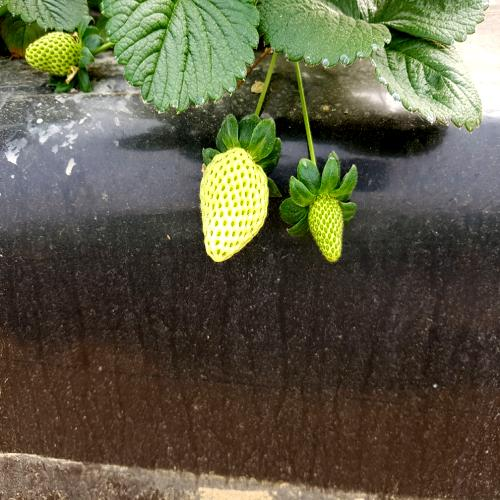unripe: (198, 139, 272, 273), (306, 192, 349, 271)
